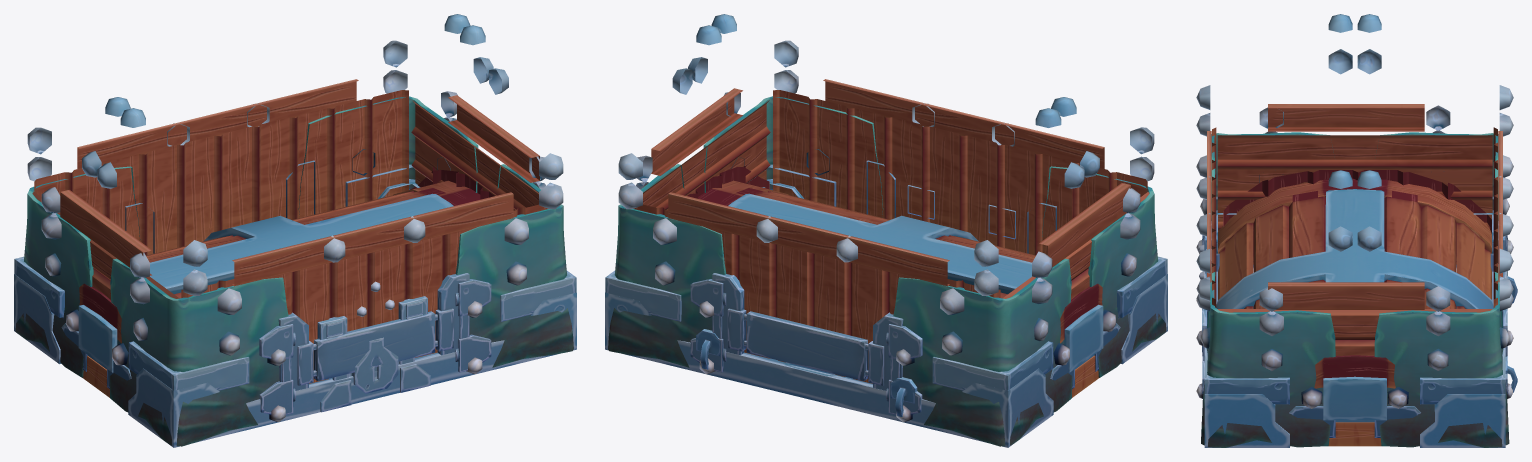
Rendered from chest.glb.
The picture shows the model from 3 angles, left to right: view 1: azimuth 30°, elevation 25°; view 2: azimuth 150°, elevation 25°; view 3: azimuth 270°, elevation 25°; orthographic projection. The views are drawn at different scales.
Parts seen in each view (by area): view 1: RPG_Chest; view 2: RPG_Chest; view 3: RPG_Chest.
Boxes of the visible parts, left/top/right/bottom form: RPG_Chest: left=14, top=14, right=576, bottom=447; RPG_Chest: left=605, top=14, right=1167, bottom=447; RPG_Chest: left=1196, top=14, right=1517, bottom=447.
Bounding box in the file's own units: 0.5 × 0.3187 × 0.3534.
Materials: 3 (3 with a texture image).
